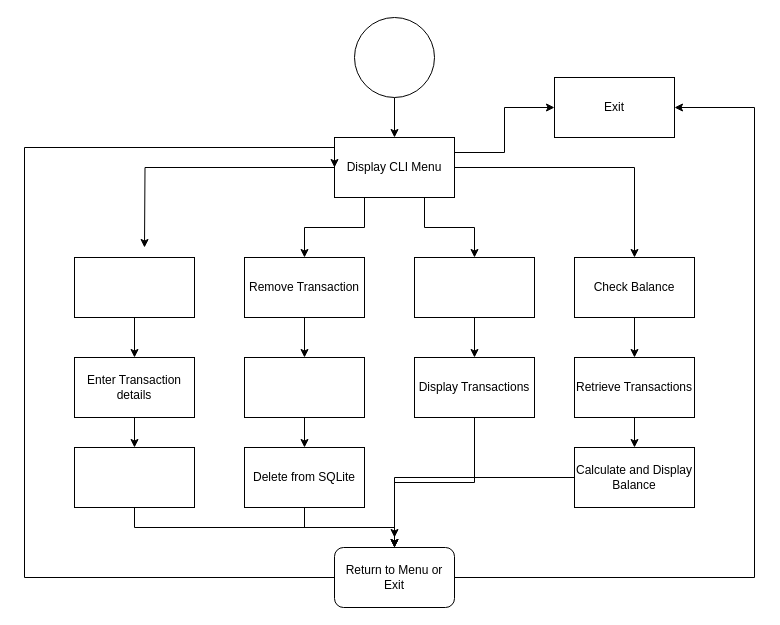
This 780x625 diagram has some shape labels left out. The centre of each missing label's shape, as x and y in pixels:
Add Transaction: point 134,287
Save to SQLite: point 134,477
Select Transaction to Delete: point 304,387
Start: point 394,57
View Transactions: point 474,287
